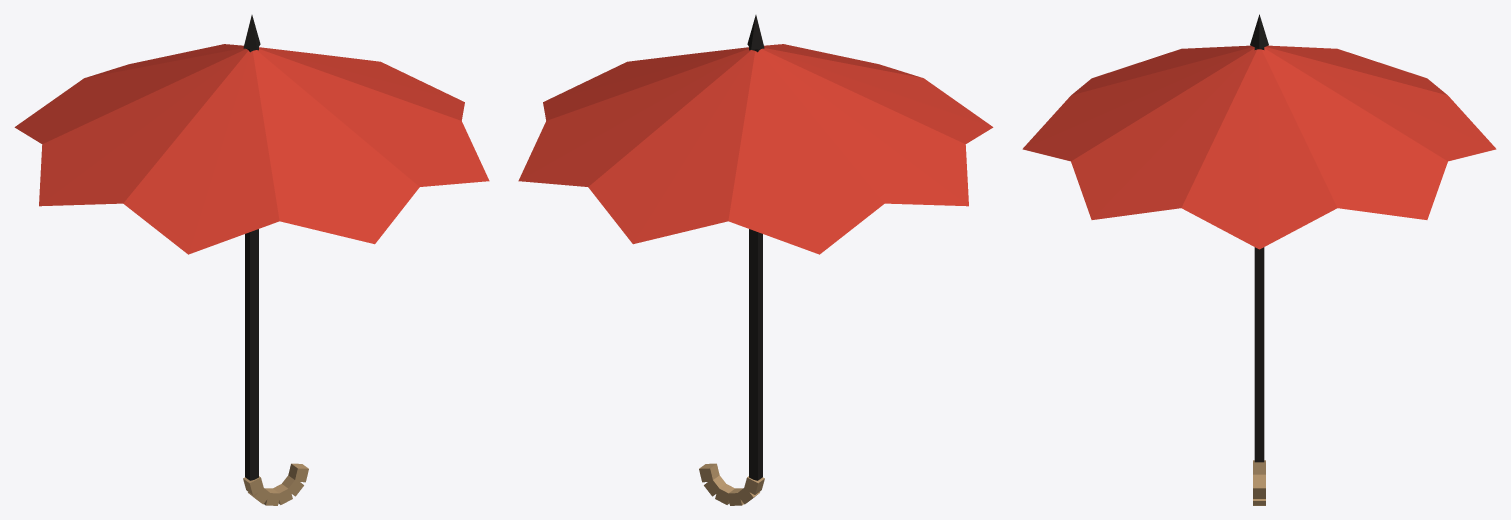
File: umbrella.glb
The picture shows the model from 3 angles, left to right: view 1: azimuth 30°, elevation 25°; view 2: azimuth 150°, elevation 25°; view 3: azimuth 270°, elevation 25°; orthographic projection. The views are drawn at different scales.
Visible parts, largest first — view 1: canopy, shaft; view 2: canopy, shaft; view 3: canopy, shaft.
Part boxes in pixels (left/top/right/bottom): canopy: left=14, top=15, right=489, bottom=254; shaft: left=243, top=47, right=308, bottom=505; canopy: left=518, top=15, right=993, bottom=254; shaft: left=699, top=47, right=764, bottom=505; canopy: left=1022, top=14, right=1496, bottom=249; shaft: left=1253, top=47, right=1265, bottom=505.
Size of the model in its own units: 0.124 by 0.1376 by 0.124.
